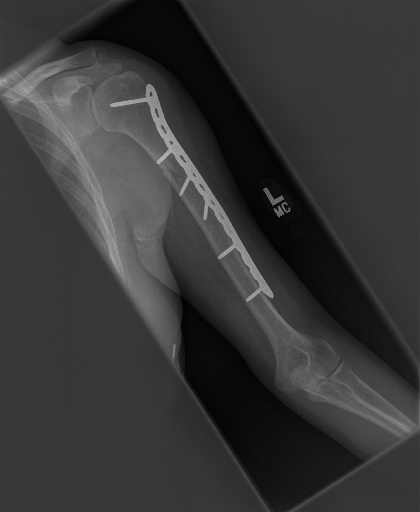implant: (107, 82, 274, 303)
